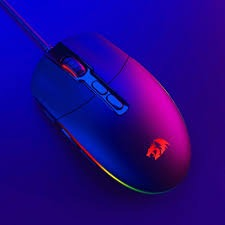mouse: (25, 32, 200, 197)
